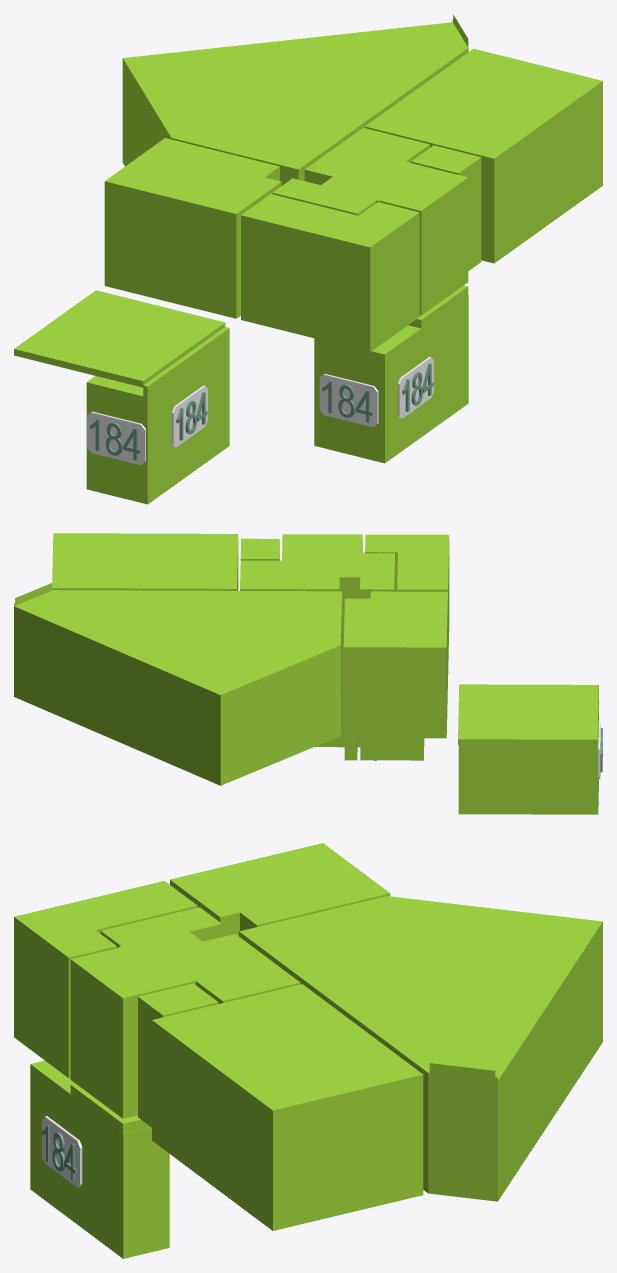
3 renders of one model, top to bottom at view 1: azimuth 30°, elevation 25°; view 2: azimuth 150°, elevation 25°; view 3: azimuth 270°, elevation 25°, orthographic. The views are drawn at different scales.
Parts seen in each view (by area): view 1: g_2, g_3, g_6, g_7, g_1, g_10, g_0, g_4, g_8, g_9, g_5, g_26 (+3 smaller); view 2: g_2, g_7, g_3, g_1, g_10, g_4, g_6, g_8, g_0, g_5, g_9; view 3: g_2, g_3, g_9, g_6, g_7, g_8, g_4, g_5, g_0, g_18.
Boxes of the visible parts, left/top/right/bottom form: g_2: left=122, top=14, right=468, bottom=185; g_3: left=365, top=48, right=602, bottom=263; g_6: left=241, top=194, right=419, bottom=352; g_7: left=104, top=138, right=281, bottom=318; g_1: left=86, top=327, right=229, bottom=504; g_10: left=14, top=290, right=225, bottom=387; g_0: left=314, top=333, right=410, bottom=463; g_4: left=272, top=127, right=429, bottom=215; g_8: left=379, top=166, right=468, bottom=315; g_9: left=398, top=285, right=468, bottom=444; g_5: left=411, top=145, right=481, bottom=270; g_26: left=319, top=374, right=378, bottom=427; g_2: left=14, top=583, right=341, bottom=785; g_7: left=343, top=591, right=447, bottom=738; g_3: left=52, top=533, right=238, bottom=590; g_1: left=458, top=691, right=598, bottom=814; g_10: left=458, top=684, right=598, bottom=745; g_4: left=240, top=552, right=394, bottom=667; g_6: left=365, top=534, right=449, bottom=674; g_8: left=282, top=534, right=362, bottom=552; g_0: left=360, top=738, right=424, bottom=760; g_5: left=240, top=538, right=279, bottom=560; g_9: left=315, top=668, right=360, bottom=760; g_2: left=239, top=896, right=602, bottom=1201; g_3: left=152, top=984, right=423, bottom=1230; g_9: left=58, top=1082, right=169, bottom=1258; g_6: left=14, top=881, right=197, bottom=1077; g_7: left=170, top=843, right=390, bottom=936; g_8: left=70, top=947, right=174, bottom=1118; g_4: left=100, top=907, right=300, bottom=1003; g_5: left=138, top=983, right=218, bottom=1127; g_0: left=30, top=1060, right=72, bottom=1210; g_18: left=42, top=1116, right=82, bottom=1187.
Bounding box in the file's own units: 14.6 × 5.4 × 10.63.
